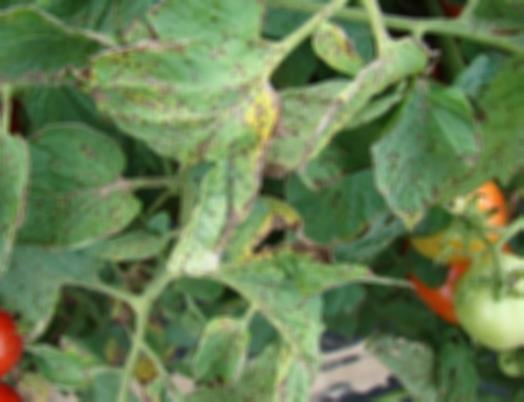Tomato leaf bacterial spot: (94, 0, 315, 267), (0, 118, 156, 256), (364, 63, 481, 242), (230, 234, 342, 402), (0, 6, 119, 92), (0, 125, 47, 295), (193, 317, 259, 396)
